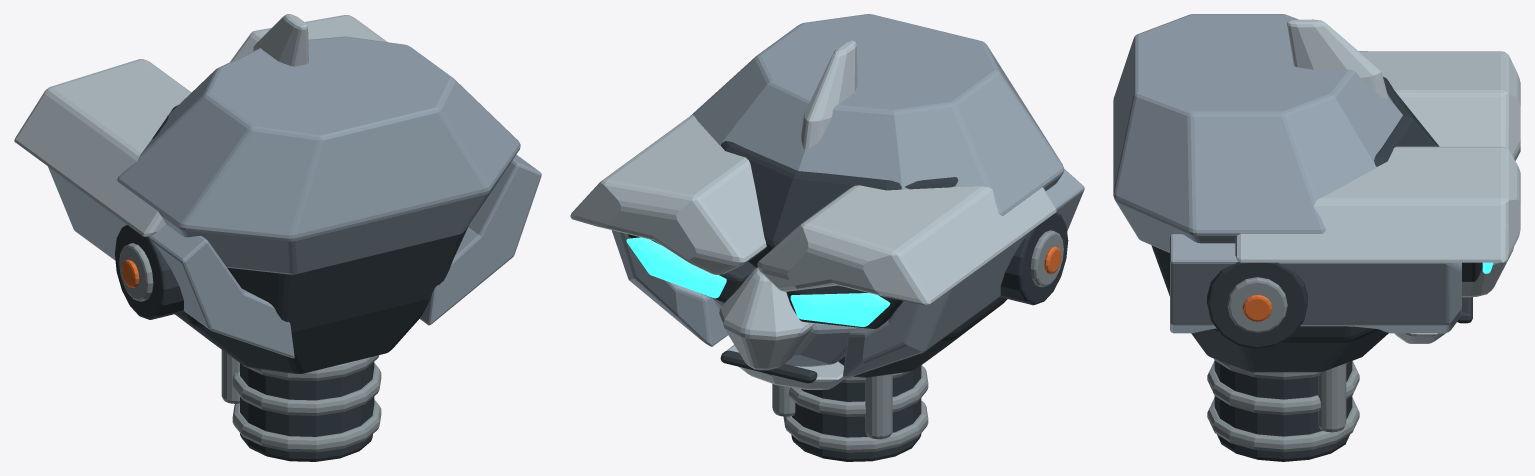
The picture shows the model from 3 angles, left to right: view 1: azimuth 30°, elevation 25°; view 2: azimuth 150°, elevation 25°; view 3: azimuth 270°, elevation 25°; orthographic projection. The views are drawn at different scales.
Visible parts, largest first — view 1: Head_hero; view 2: Head_hero; view 3: Head_hero.
Boxes of the visible parts, x1,y1,x2,y2 form: Head_hero: (14, 14, 541, 461); Head_hero: (570, 14, 1084, 461); Head_hero: (1113, 14, 1520, 461).
Size of the model in its own units: 0.6108 by 0.6212 by 0.5535.
